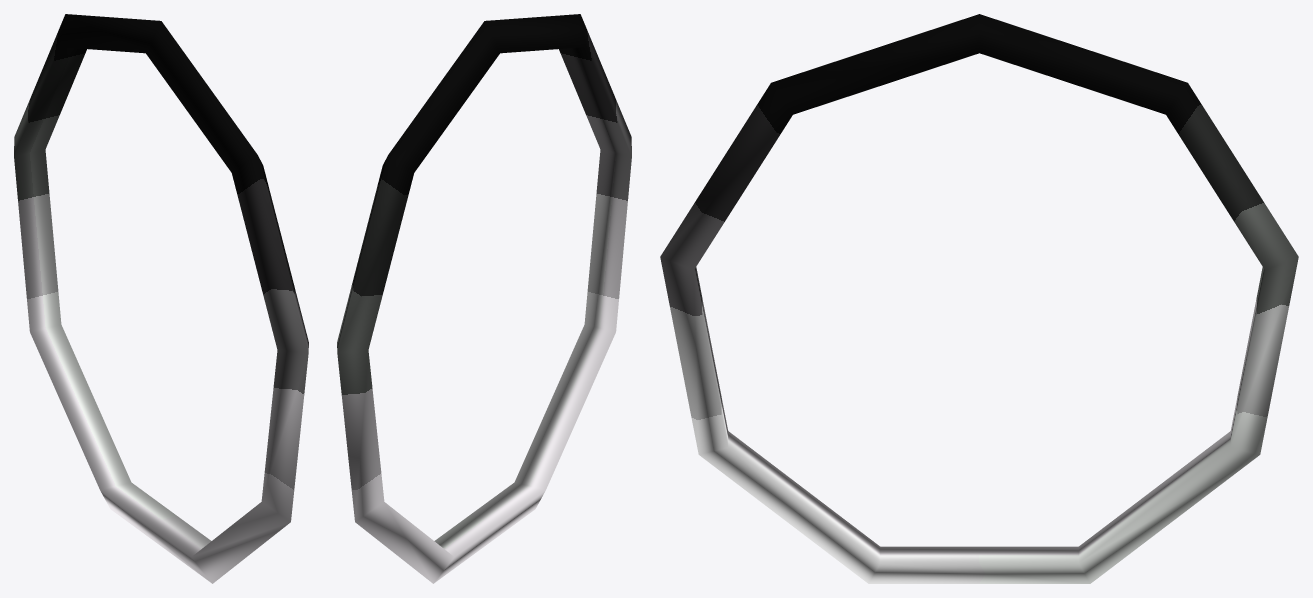
The model's file is instanceportal.obj.
3 views of the same model, side by side, from view 1: azimuth 30°, elevation 25°; view 2: azimuth 150°, elevation 25°; view 3: azimuth 270°, elevation 25° (orthographic). The views are drawn at different scales.
Visible parts, largest first — view 1: instanceportal; view 2: instanceportal; view 3: instanceportal.
Boxes of the visible parts, x1=… form: instanceportal: x1=14, y1=14, x2=308, y2=583; instanceportal: x1=337, y1=14, x2=631, y2=583; instanceportal: x1=660, y1=14, x2=1298, y2=583.
Size of the model in its own units: 0.5451 by 8.69 by 8.83.
Materials: 1 (1 with a texture image).
